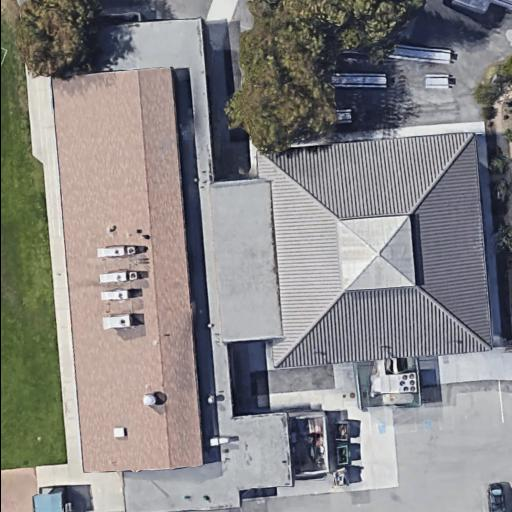Commercial-Slope-Roof: (48, 68, 201, 472)
